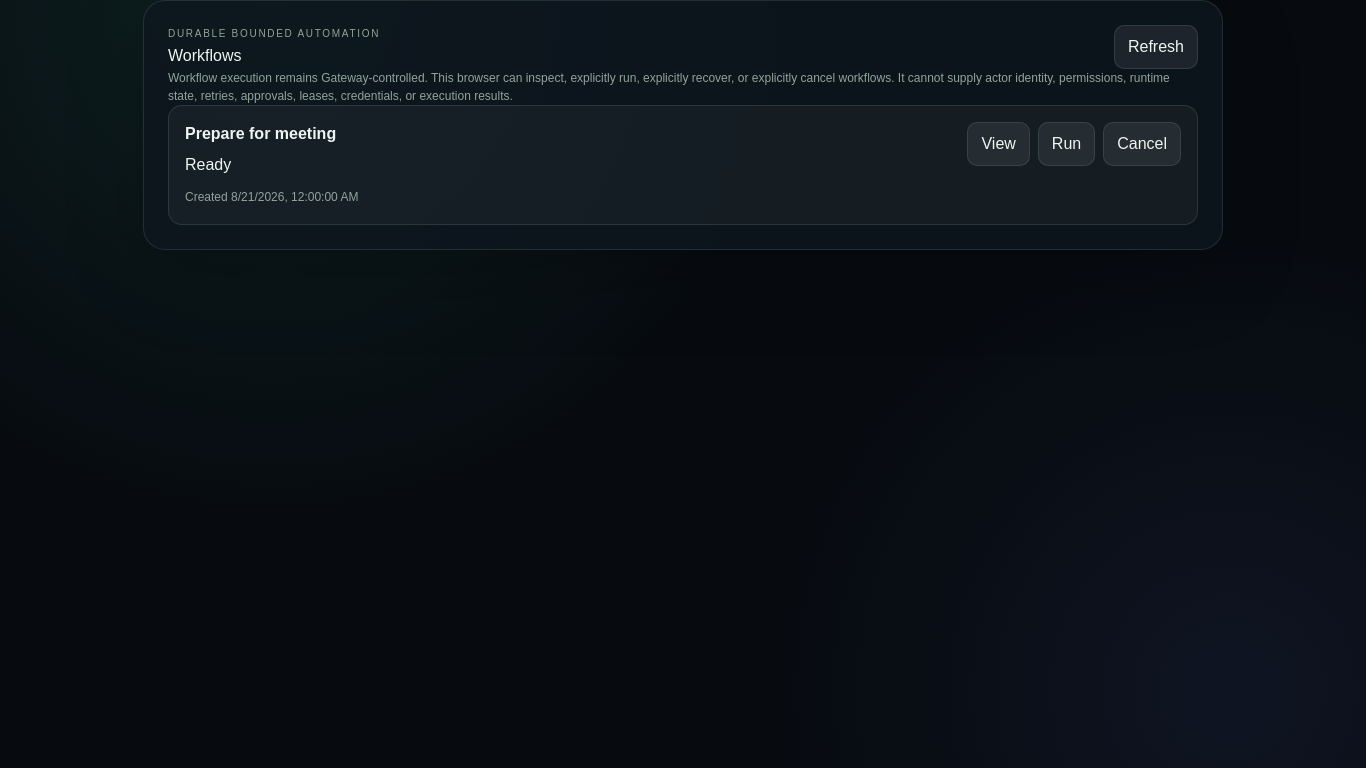
Test: WorkflowPanel › renders sanitized step error codes without exposing arbitrary text
The image size is (1366, 768).
Click the button "View".
click(999, 144)  # box [967,122,1030,166]
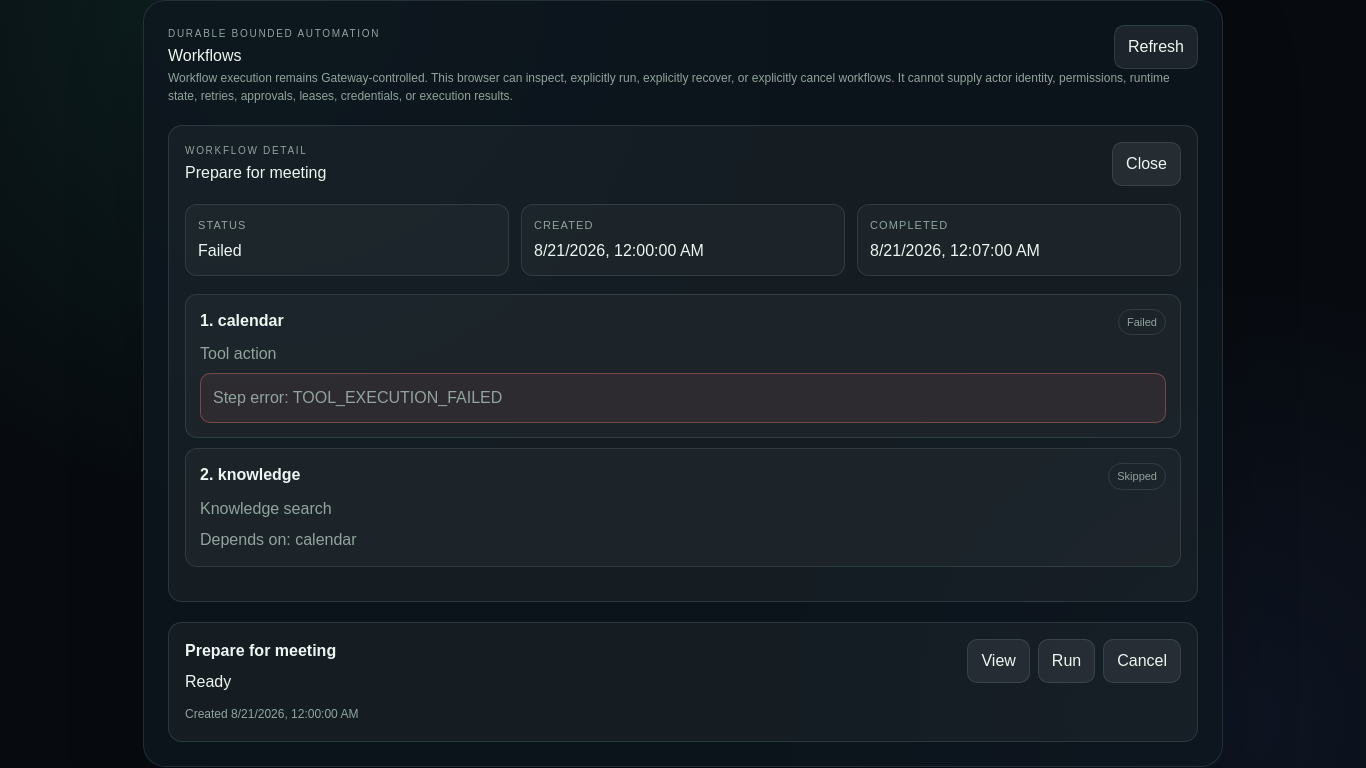
expect the text "Step error: TOOL_EXECUTION_FAILED" is shown: met, box [200,373,1166,423]
